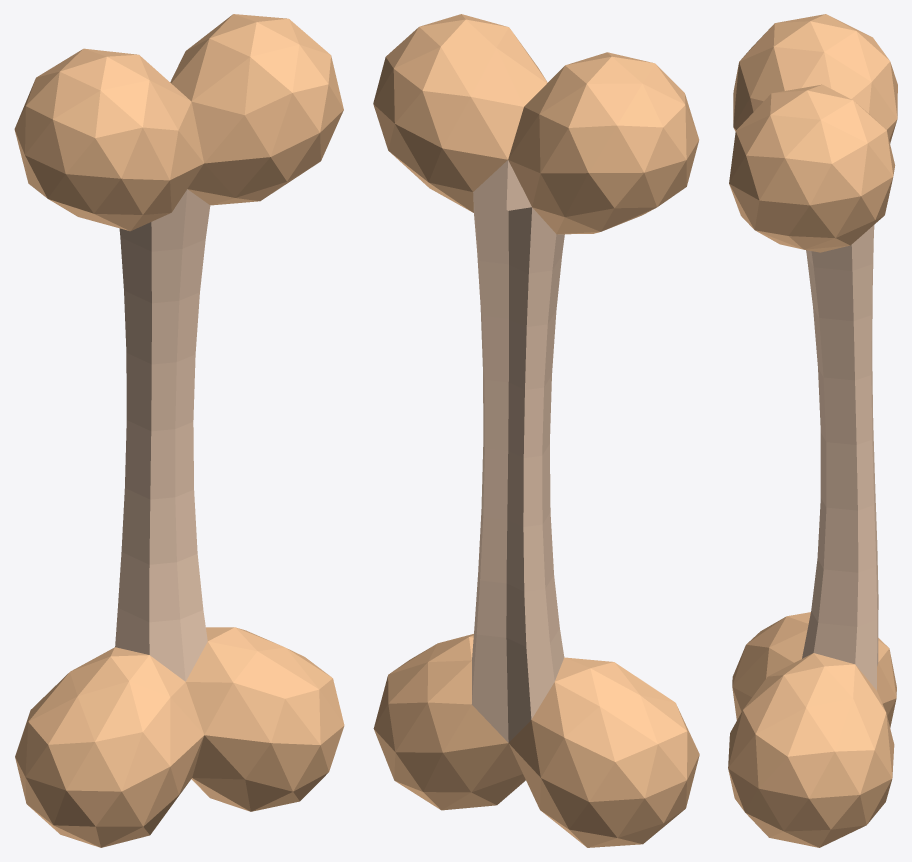
The model's file is Ingredient_bone_1.fbx.
3 renders of one model, left to right at view 1: azimuth 30°, elevation 25°; view 2: azimuth 150°, elevation 25°; view 3: azimuth 270°, elevation 25°, orthographic. The views are drawn at different scales.
Visible parts, largest first — view 1: Icosphere.001; view 2: Icosphere.001; view 3: Icosphere.001.
Part boxes in pixels (x1,y1,x2,y2): Icosphere.001: [14, 14, 344, 847]; Icosphere.001: [373, 14, 699, 847]; Icosphere.001: [728, 14, 897, 847].
Bounding box in the file's own units: 16.52 × 40.65 × 8.34.
